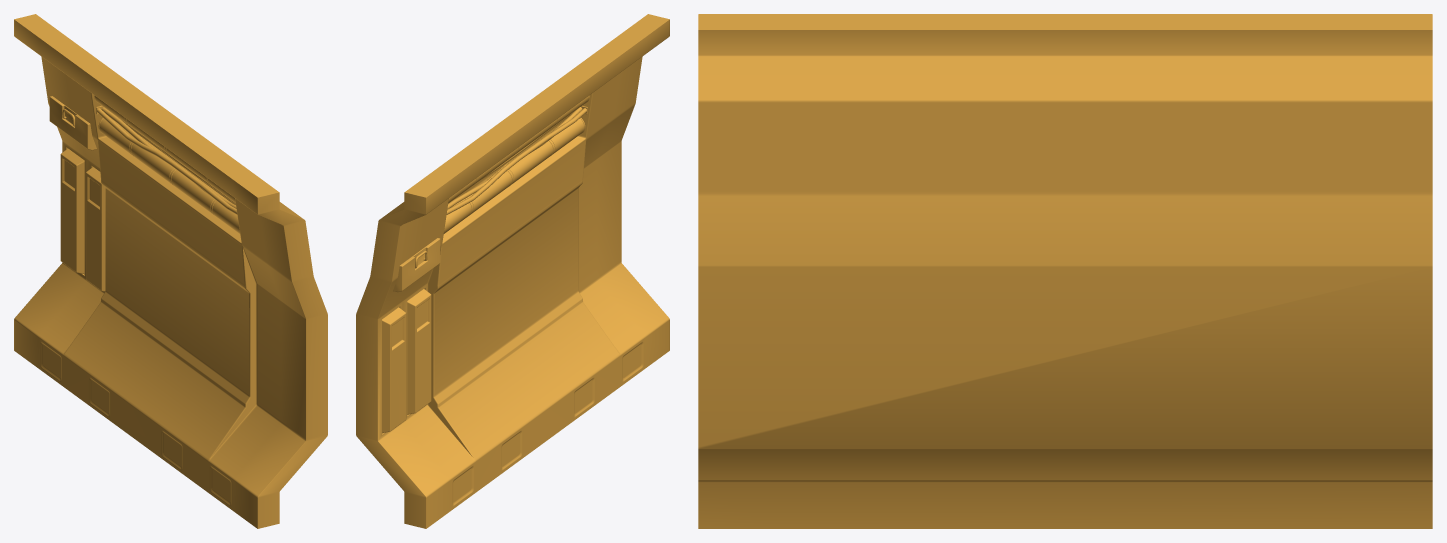
File: Wall02.fbx
3 renders of one model, left to right at view 1: azimuth 30°, elevation 25°; view 2: azimuth 150°, elevation 25°; view 3: azimuth 270°, elevation 25°, orthographic. The views are drawn at different scales.
Parts seen in each view (by area): view 1: SM_Wall02; view 2: SM_Wall02; view 3: SM_Wall02.
Part boxes in pixels (bbox=[...]): SM_Wall02: bbox=[14, 14, 327, 528]; SM_Wall02: bbox=[356, 14, 669, 528]; SM_Wall02: bbox=[698, 14, 1432, 528].
Size of the model in its own units: 66.44 by 300 by 400.
